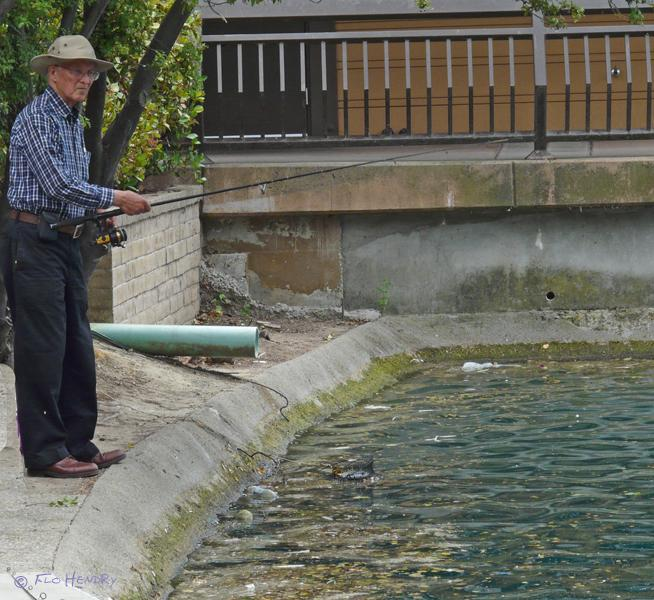person: (10, 36, 152, 479)
